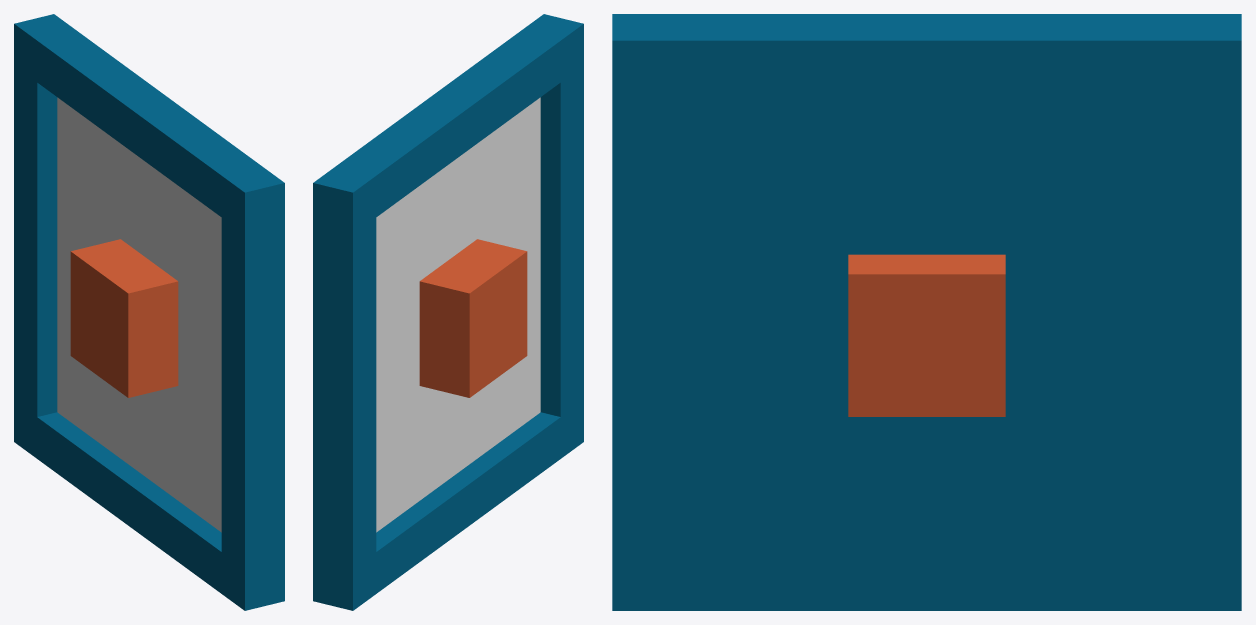
Rendered from G01_011_Botton.fbx.
The picture shows the model from 3 angles, left to right: view 1: azimuth 30°, elevation 25°; view 2: azimuth 150°, elevation 25°; view 3: azimuth 270°, elevation 25°; orthographic projection. The views are drawn at different scales.
Visible parts, largest first — view 1: 002_Botton_B; view 2: 002_Botton_B; view 3: 002_Botton_B.
Part boxes in pixels (x1,y1,x2,y2): 002_Botton_B: (14,14,284,610); 002_Botton_B: (313,14,583,610); 002_Botton_B: (612,14,1241,610).
Bounding box in the file's own units: 25 × 100 × 100.
